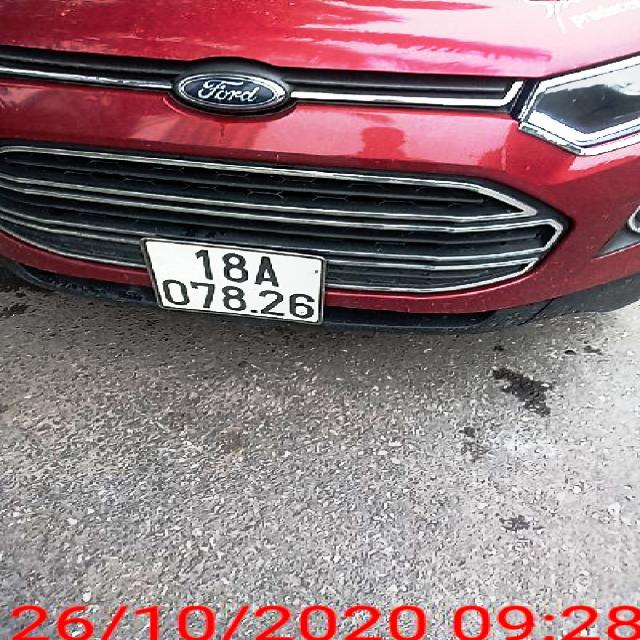license_plate: (150, 237, 324, 322)
